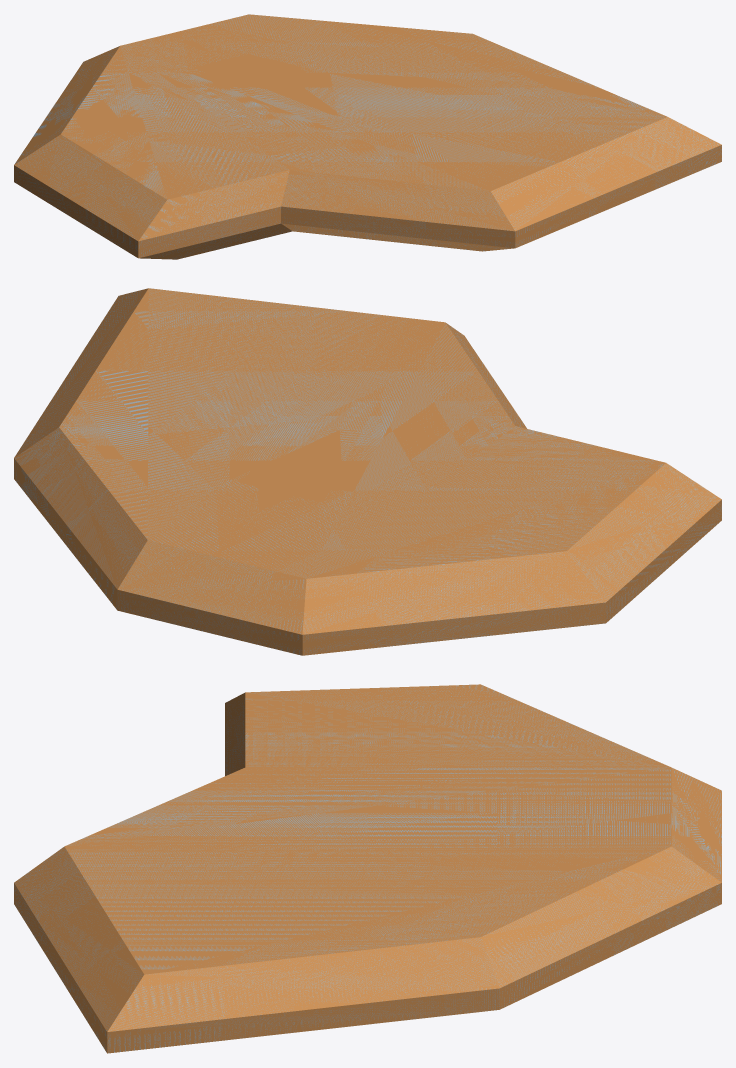
The model's file is Rock_Medium_Flat_Dirt_02.fbx.
3 views of the same model, one above another, from view 1: azimuth 30°, elevation 25°; view 2: azimuth 150°, elevation 25°; view 3: azimuth 270°, elevation 25° (orthographic). The views are drawn at different scales.
Visible parts, largest first — view 1: Model; view 2: Model; view 3: Model.
Boxes of the visible parts, x1=… form: Model: x1=14, y1=14, x2=721, y2=259; Model: x1=14, y1=288, x2=721, y2=655; Model: x1=14, y1=684, x2=721, y2=1053.
Size of the model in its own units: 321 by 36 by 283.
